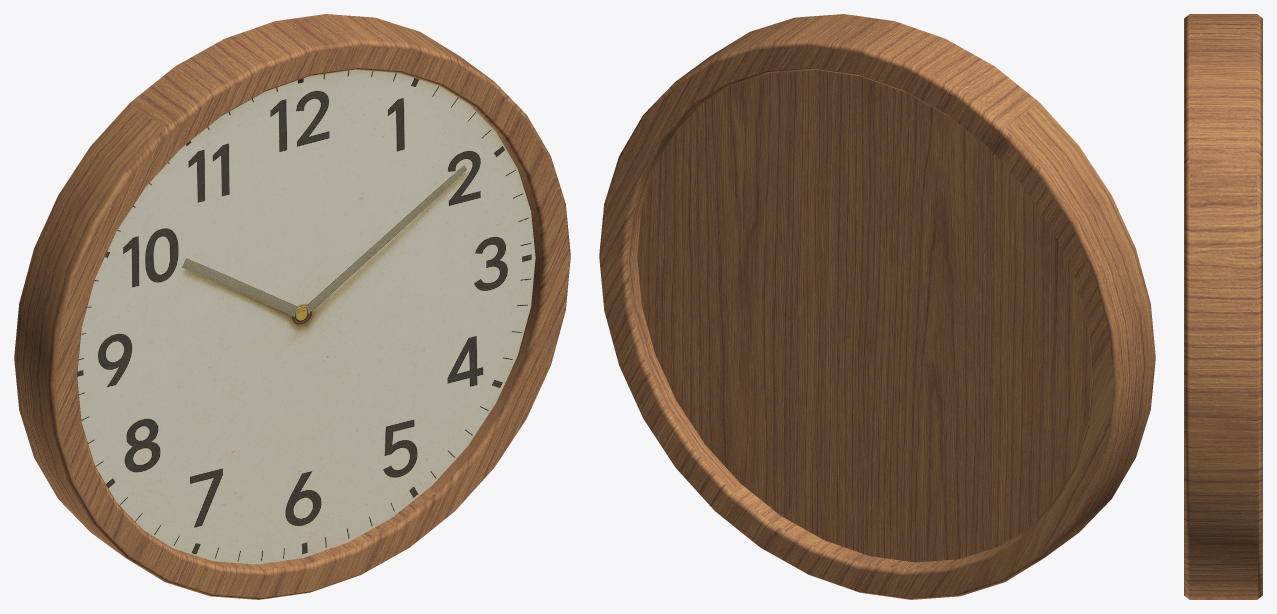
File: SM_clock_01.fbx
3 views of the same model, side by side, from view 1: azimuth 30°, elevation 25°; view 2: azimuth 150°, elevation 25°; view 3: azimuth 270°, elevation 25° (orthographic). The views are drawn at different scales.
Visible parts, largest first — view 1: clock; view 2: clock; view 3: clock.
Part boxes in pixels (x1=…): clock: x1=14, y1=14, x2=570, y2=599; clock: x1=599, y1=14, x2=1155, y2=599; clock: x1=1184, y1=14, x2=1262, y2=599.
Size of the model in its own units: 19.08 by 19.08 by 2.56.
2 materials, 2 textured.
